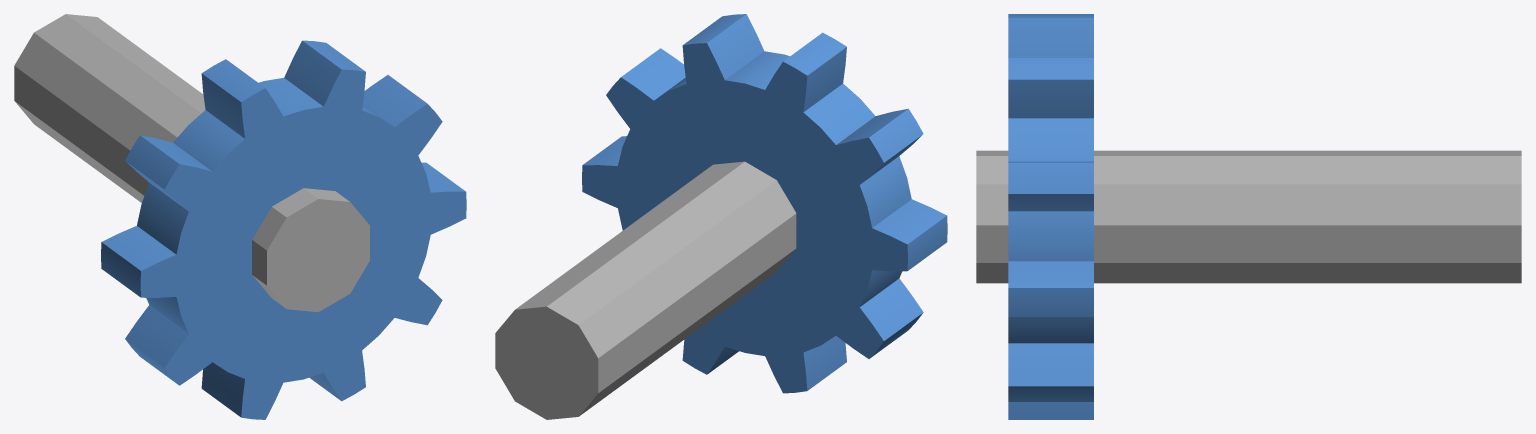
The model's file is gear v5.fbx.
The picture shows the model from 3 angles, left to right: view 1: azimuth 30°, elevation 25°; view 2: azimuth 150°, elevation 25°; view 3: azimuth 270°, elevation 25°; orthographic projection. The views are drawn at different scales.
Parts seen in each view (by area): view 1: gear, gearstick; view 2: gear, gearstick; view 3: gearstick, gear.
Part boxes in pixels (bbox=[...]): gear: bbox=[101, 40, 466, 419]; gearstick: bbox=[14, 14, 369, 312]; gear: bbox=[582, 14, 947, 393]; gearstick: bbox=[495, 161, 796, 419]; gearstick: bbox=[976, 150, 1521, 283]; gear: bbox=[1008, 14, 1093, 419].
Size of the model in its own units: 190 by 185 by 255.
